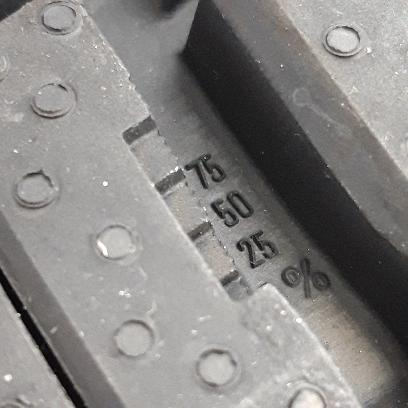temoin:100: (115, 72, 272, 311)
